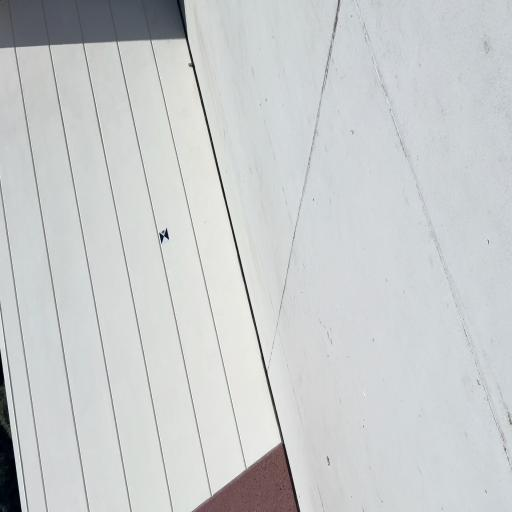target4: (159, 227, 170, 245)
